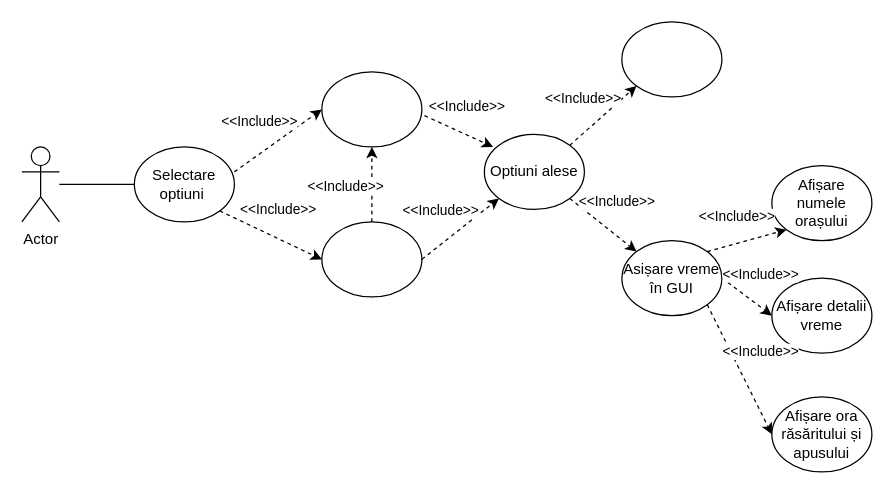
The diagram is 894 pixels wide and 494 high, and some of its shapes have lost their labels. The centre of each missing label's shape, as x and y in pixels:
Scriere fișier de log: pixel 671 59
Selectare oras: pixel 371 259
Selectare tara: pixel 371 109
